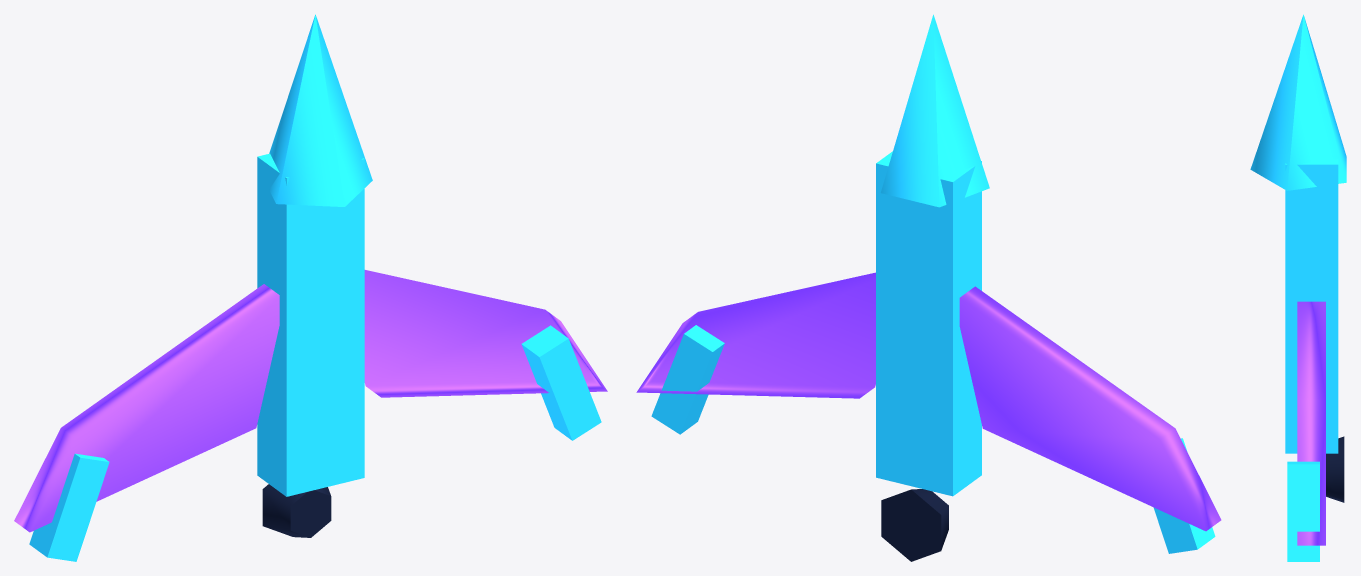
Rendered from enemy-skimmer.glb.
The picture shows the model from 3 angles, left to right: view 1: azimuth 30°, elevation 25°; view 2: azimuth 150°, elevation 25°; view 3: azimuth 270°, elevation 25°; orthographic projection. The views are drawn at different scales.
Visible parts, largest first — view 1: needle_body, left_knife_wing, right_knife_wing, nose_spike, right_tip, left_tip, rear_thruster; view 2: needle_body, left_knife_wing, right_knife_wing, nose_spike, right_tip, rear_thruster, left_tip; view 3: needle_body, nose_spike, right_knife_wing, right_tip, rear_thruster.
Boxes of the visible parts, x1,y1,x2,y2 form: needle_body: (257,153,364,496); left_knife_wing: (14,284,279,532); right_knife_wing: (364,270,607,397); nose_spike: (269,14,372,206); right_tip: (521,325,601,440); left_tip: (29,453,109,561); rear_thruster: (262,484,331,537); needle_body: (876,151,981,496); left_knife_wing: (959,286,1221,531); right_knife_wing: (636,272,875,398); nose_spike: (881,14,989,207); right_tip: (651,325,724,434); rear_thruster: (881,489,948,561); left_tip: (1153,438,1215,553); needle_body: (1285,159,1338,453); nose_spike: (1250,14,1346,190); right_knife_wing: (1297,301,1325,545); right_tip: (1287,461,1319,561); rear_thruster: (1326,436,1344,502).
Bounding box in the file's own units: 1.48 × 1.32 × 0.2352.
